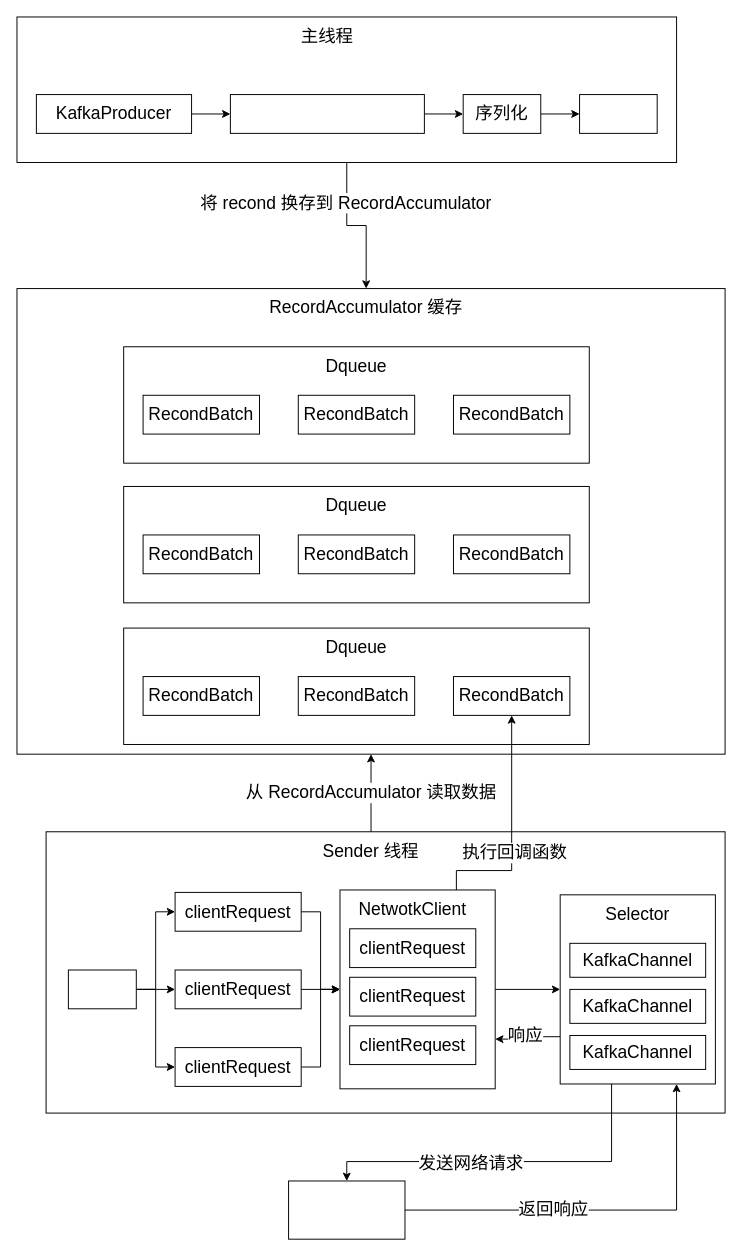
The diagram is 742 pixels wide and 1256 high, and some of its shapes have lost their labels. Here are the shapes that lost their labels. From the top down, the box of each, then its label:
(229, 94, 424, 133): ProducerInterceptor
(579, 94, 657, 133): 分区器
(67, 969, 136, 1009): Sender
(288, 1180, 405, 1239): Kafka 集群
